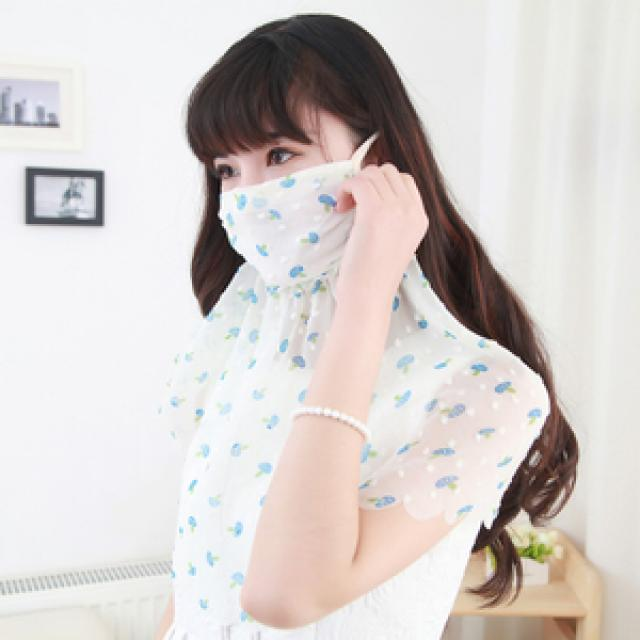mask: (215, 80, 362, 274)
